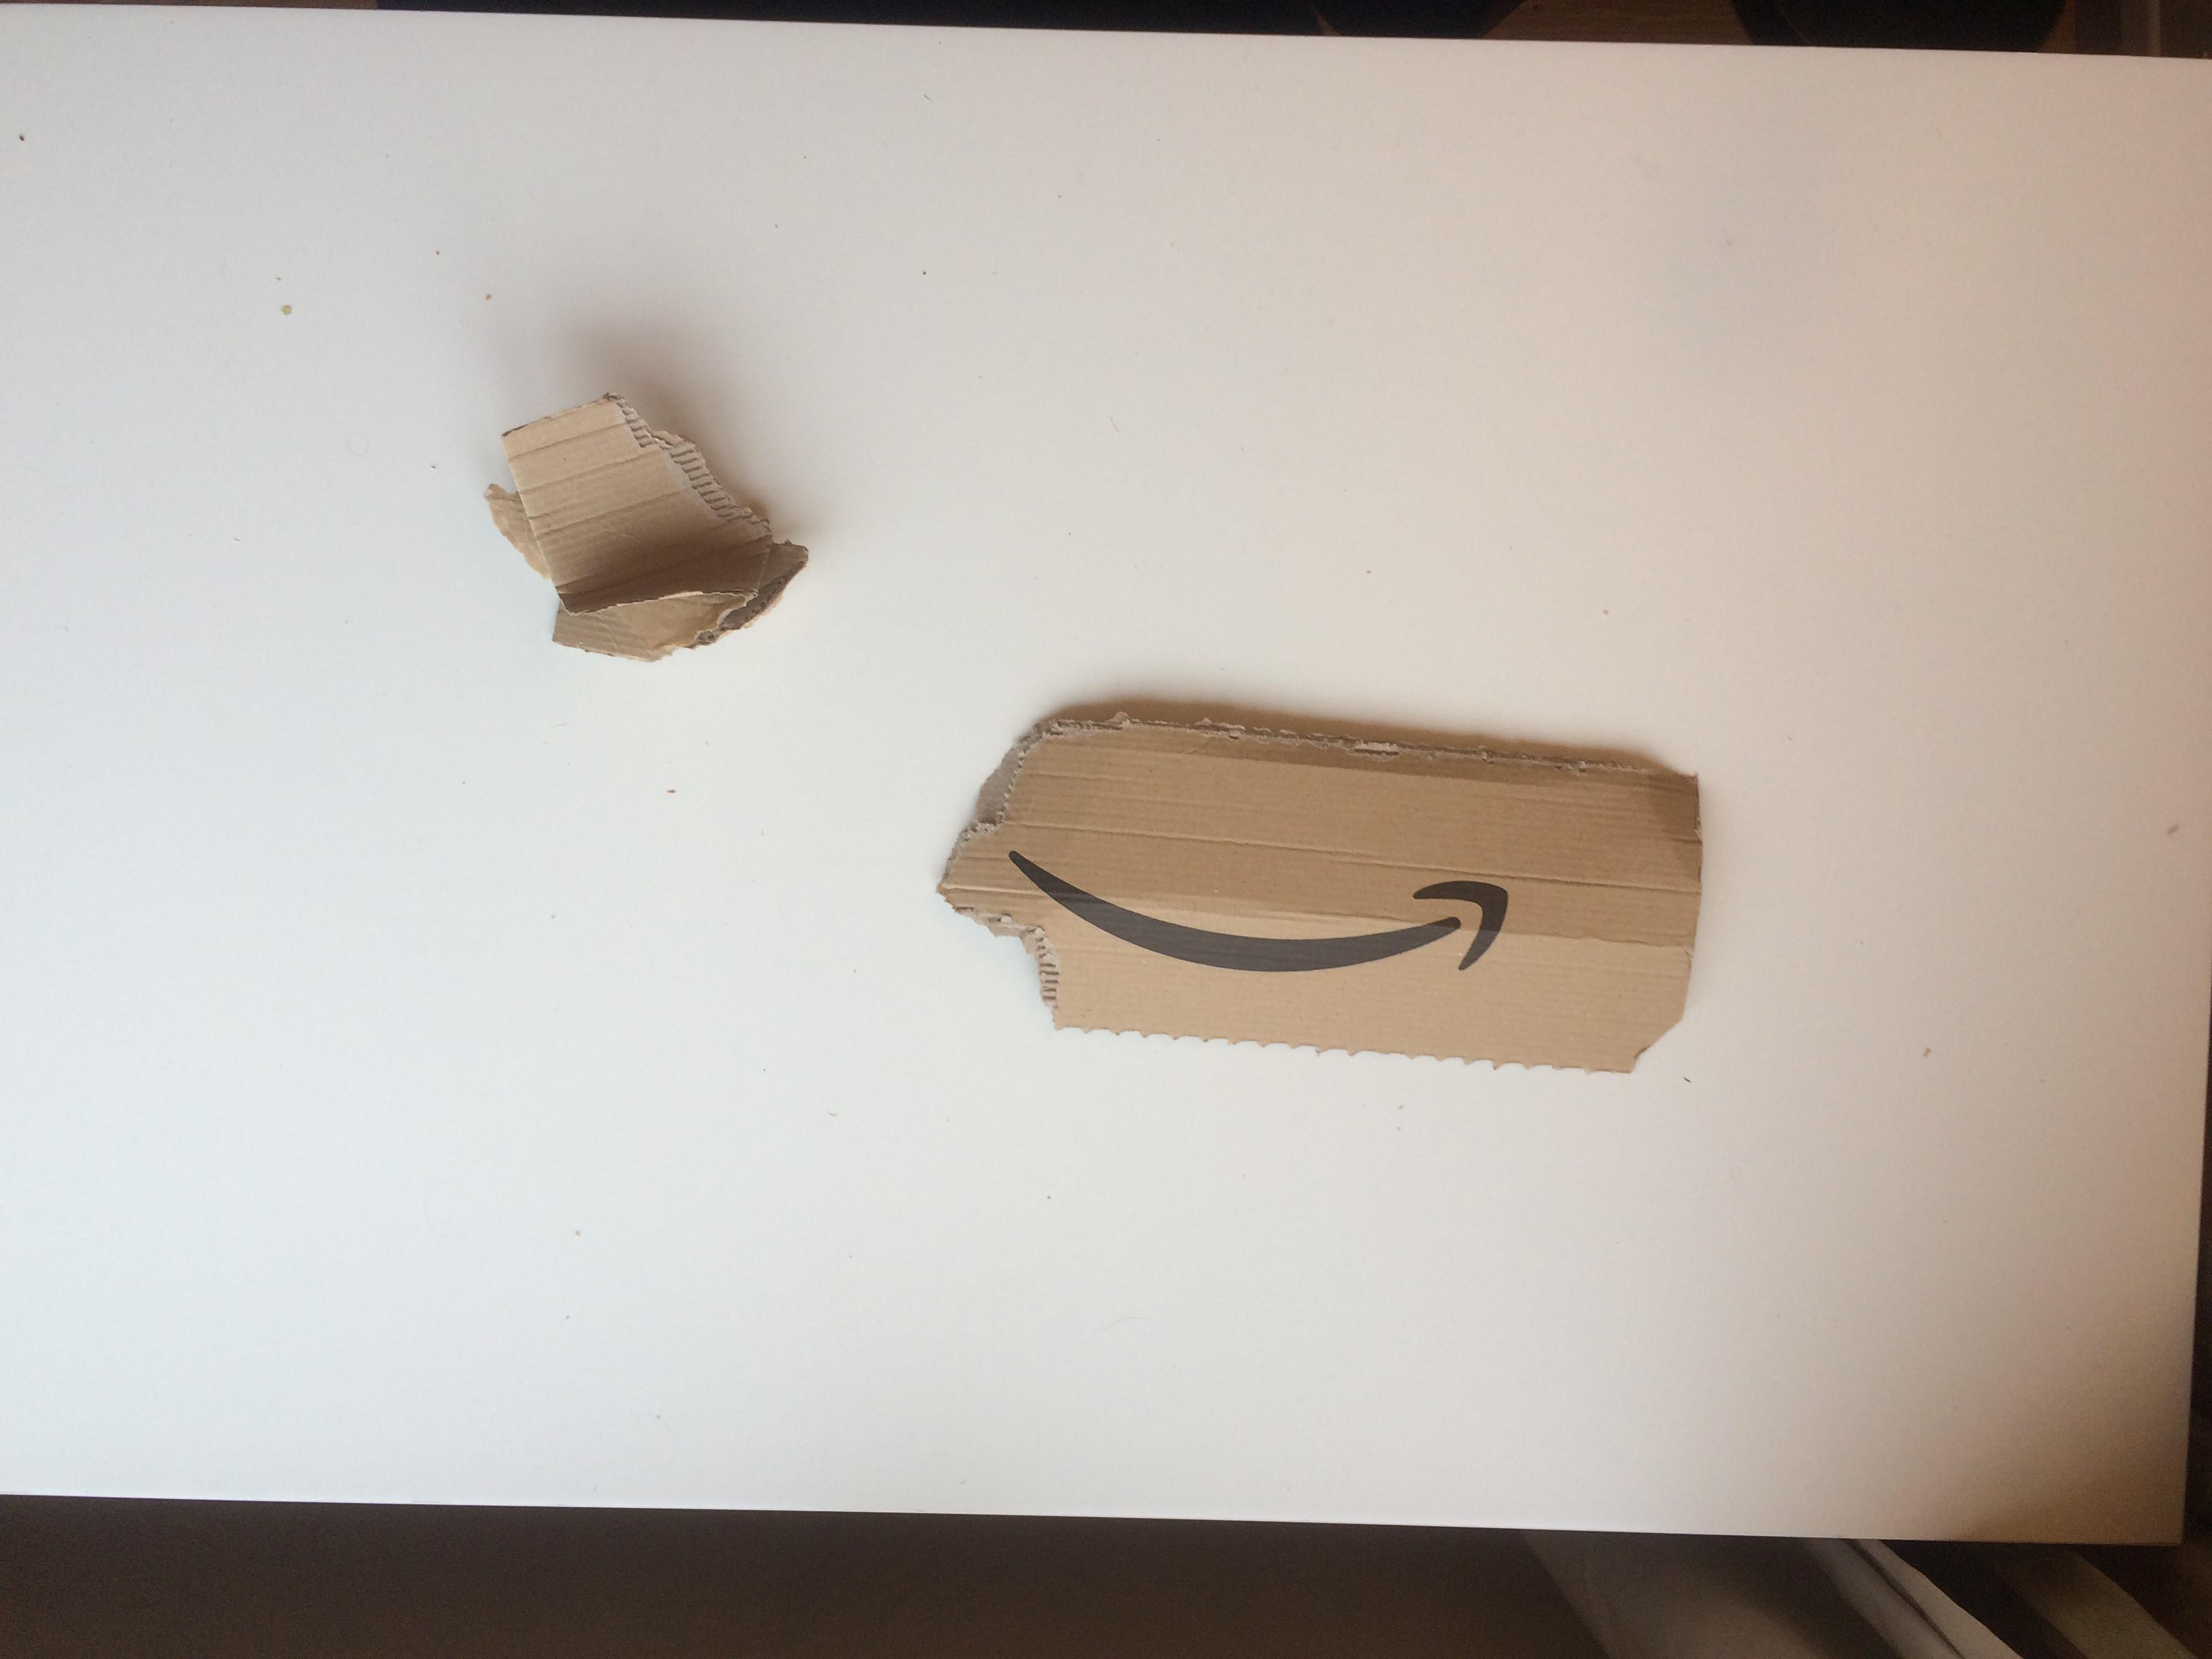Trash: (935, 701, 1707, 1084), (486, 394, 808, 673)
